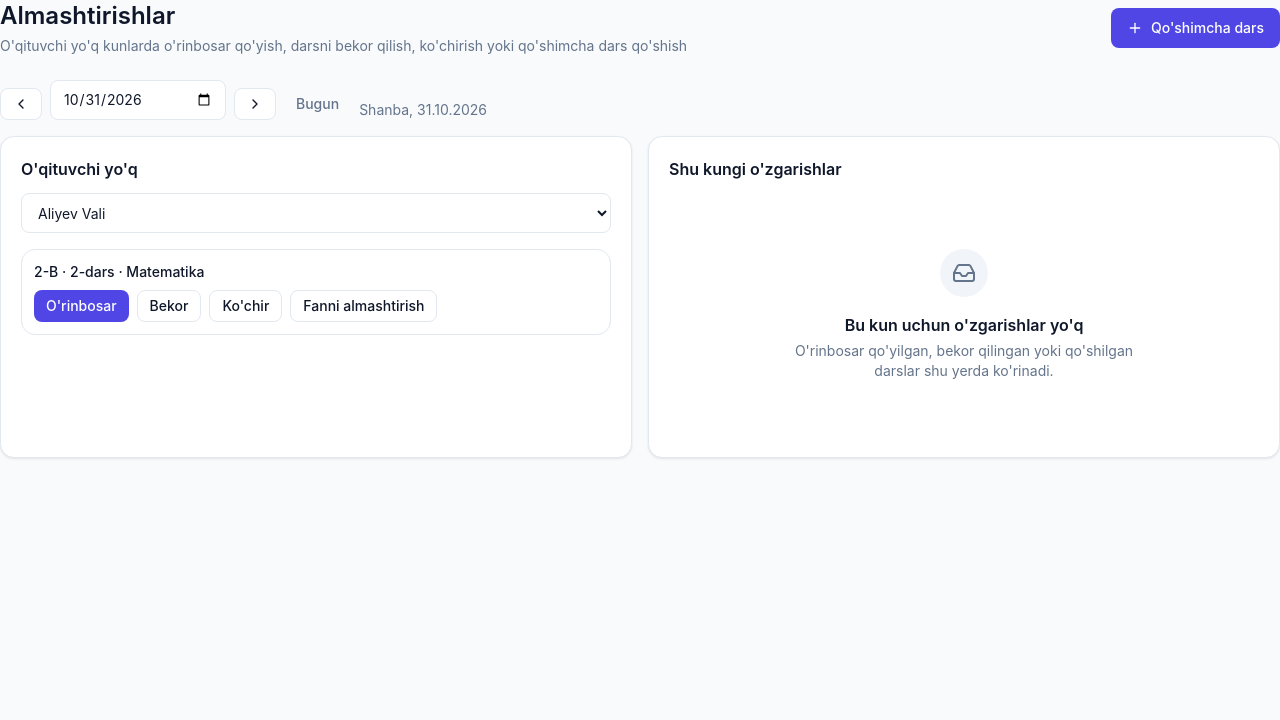
Test: SubstitutionsView › 409 xatosi: server xabari oynada korsatiladi, oyna yopilmaydi
Click the button with test id "act-substitute".
click(81, 306)  # box [34,290,129,322]
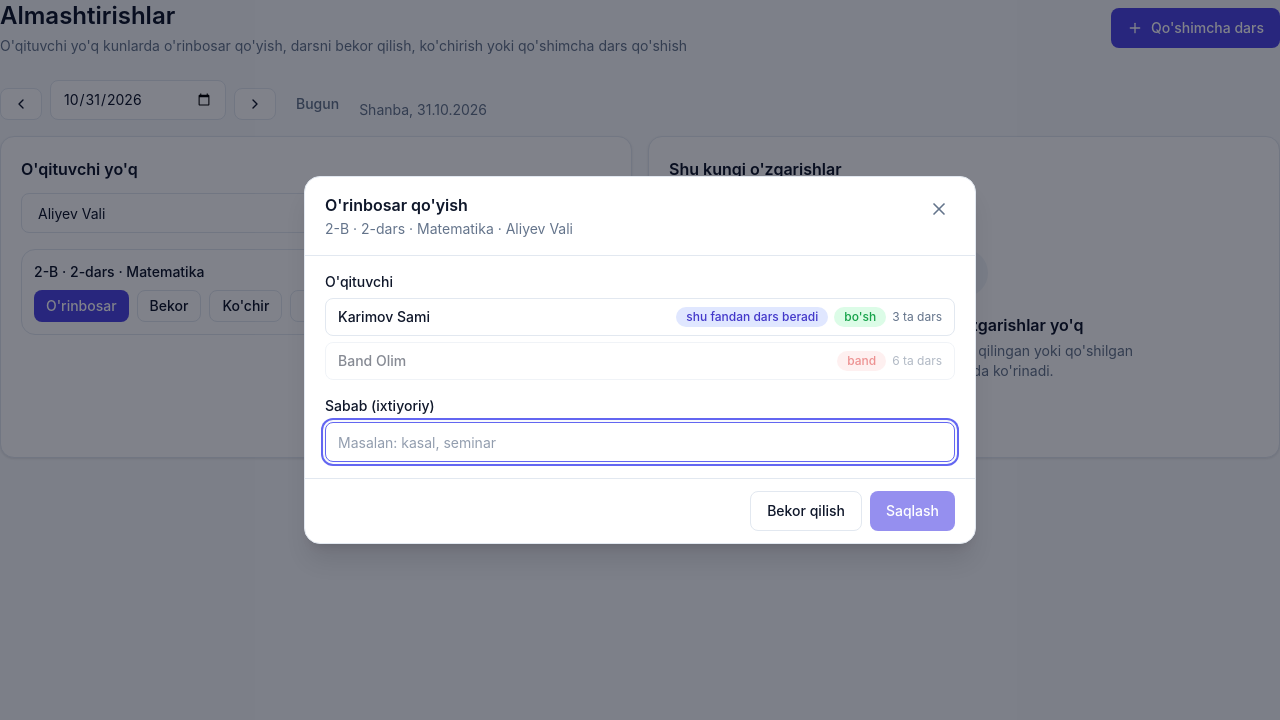
Expected: the radio button with test id "teacher-t2" is shown
Click the radio button with test id "teacher-t2".
click(384, 316)  # box [325,298,955,336]
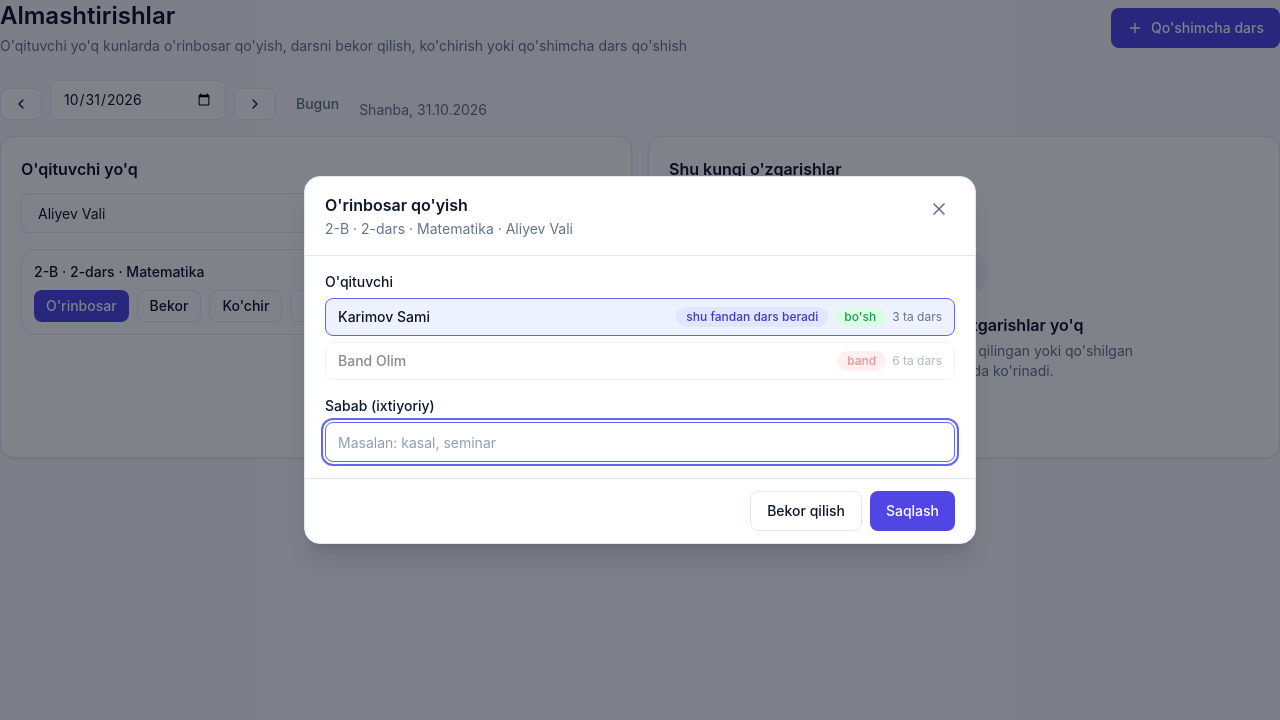
Expected: the button with test id "override-submit" is shown
Click the button with test id "override-submit".
click(912, 511)  # box [870,491,955,531]
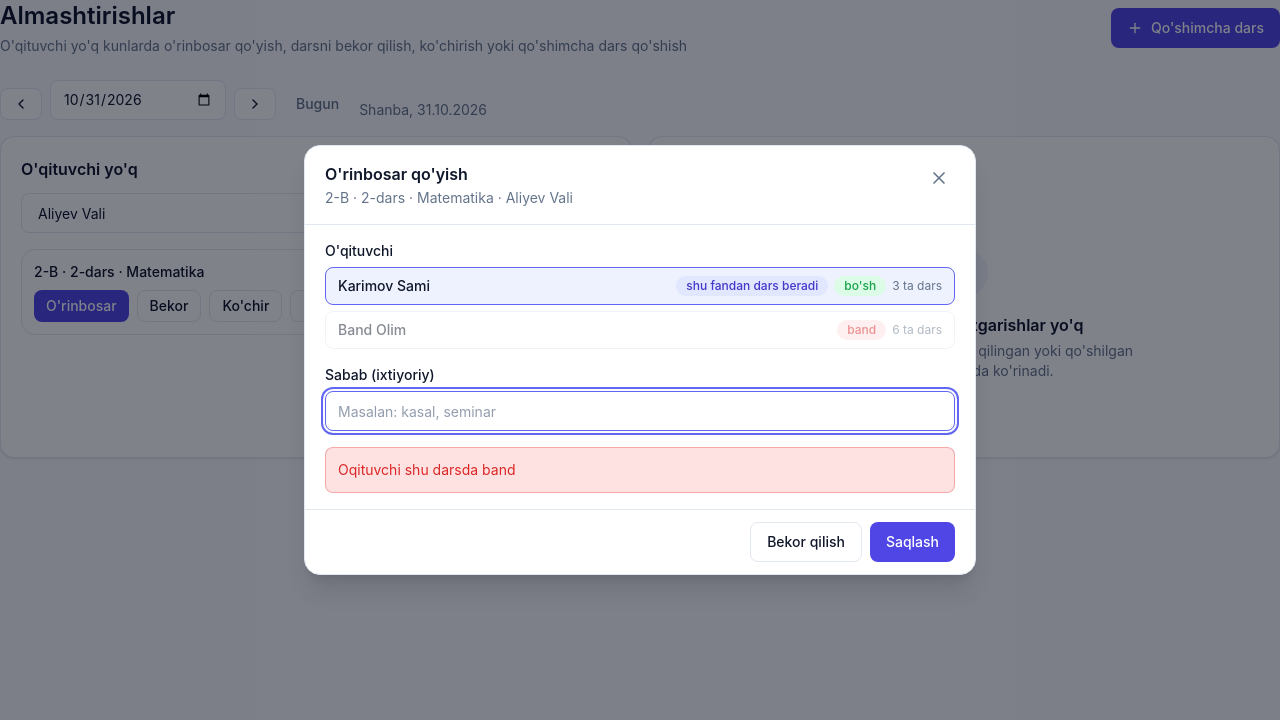
Expected: the button with test id "override-submit" is shown, [870,522,955,562]
Expected: the message with test id "override-error" reads "Oqituvchi shu darsda band", [338,461,516,478]
